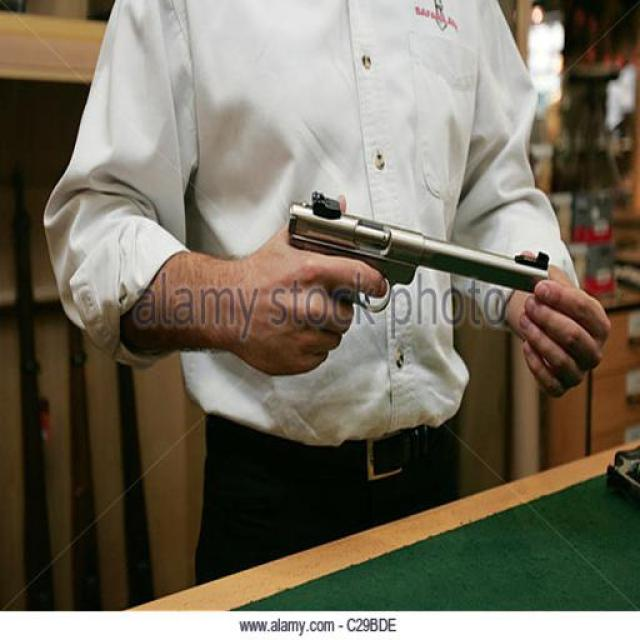pistol: (279, 176, 549, 386)
